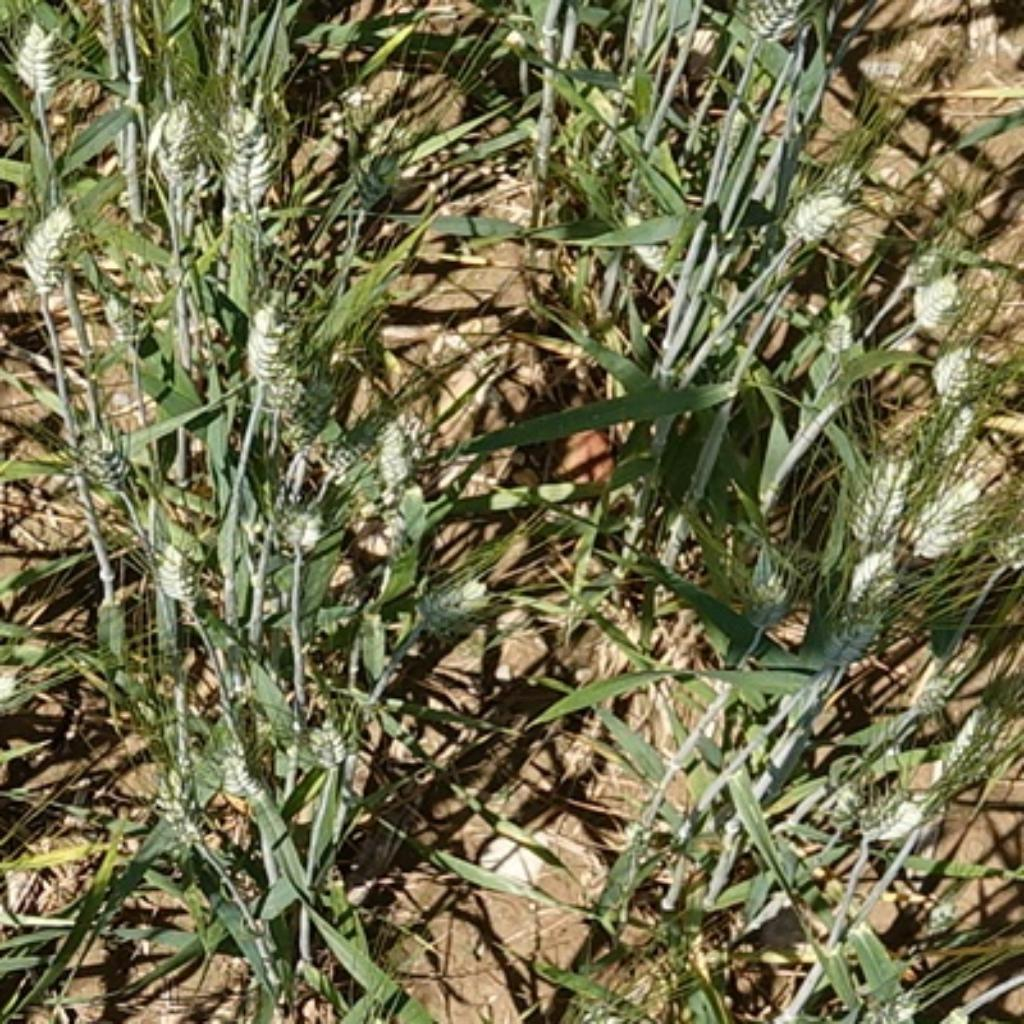0-0: (330, 99, 440, 230), (209, 51, 284, 240), (911, 453, 1018, 565), (130, 92, 212, 225), (931, 670, 1018, 788), (826, 775, 944, 860), (551, 952, 689, 1024), (773, 148, 865, 245), (832, 535, 921, 632), (401, 558, 494, 640), (12, 186, 87, 286), (921, 327, 1013, 407), (230, 291, 294, 399), (609, 207, 693, 289), (849, 437, 911, 547), (340, 488, 430, 563), (742, 535, 806, 640), (148, 519, 215, 614), (140, 773, 215, 857), (204, 724, 266, 824), (371, 417, 458, 488), (74, 414, 140, 504), (276, 371, 335, 465), (6, 17, 70, 96), (263, 499, 335, 568), (294, 701, 360, 775), (898, 263, 972, 325), (92, 279, 151, 350), (801, 291, 860, 353), (742, 2, 808, 51), (320, 430, 376, 486)
